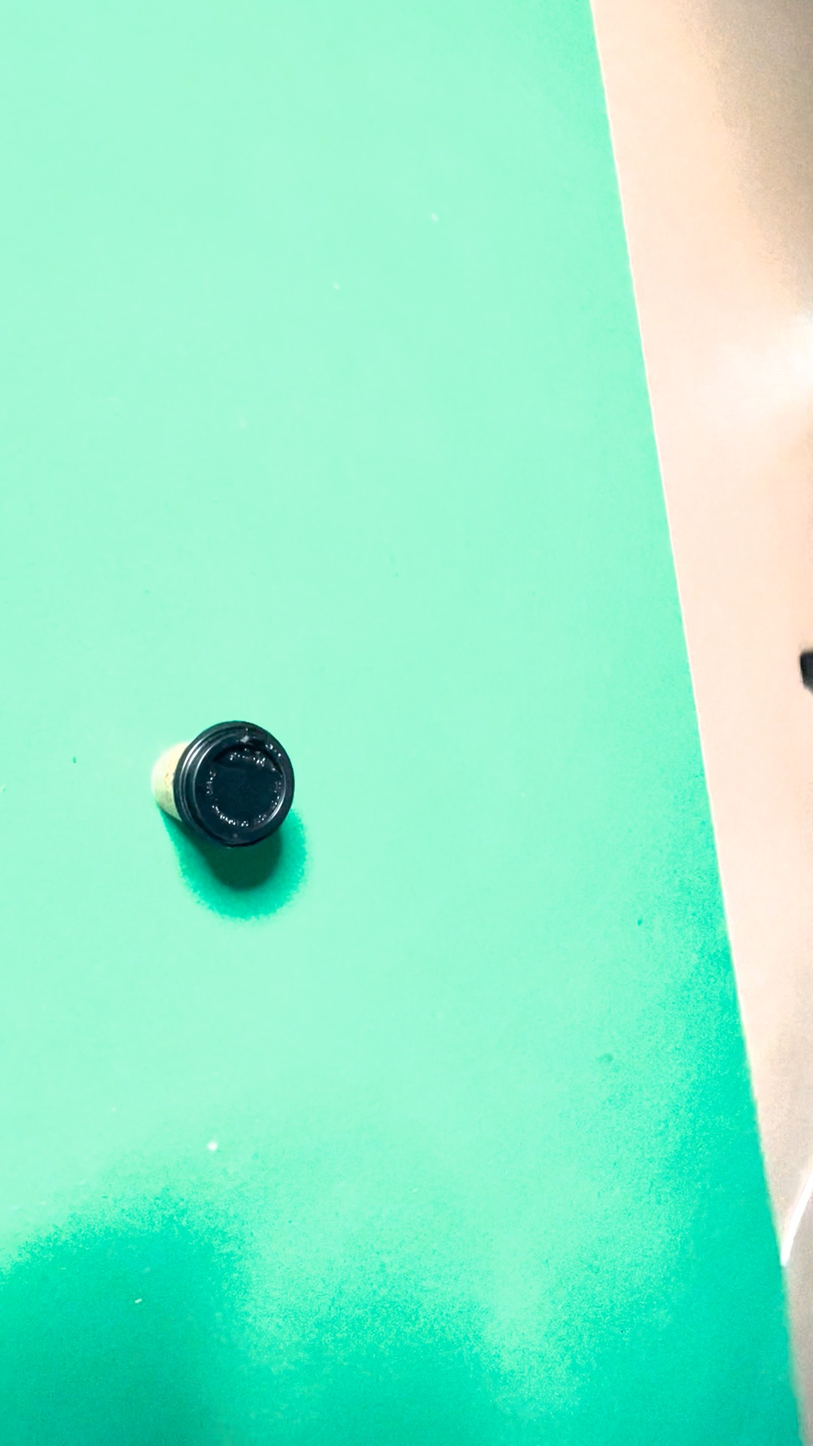cup: (445, 658, 528, 1063)
